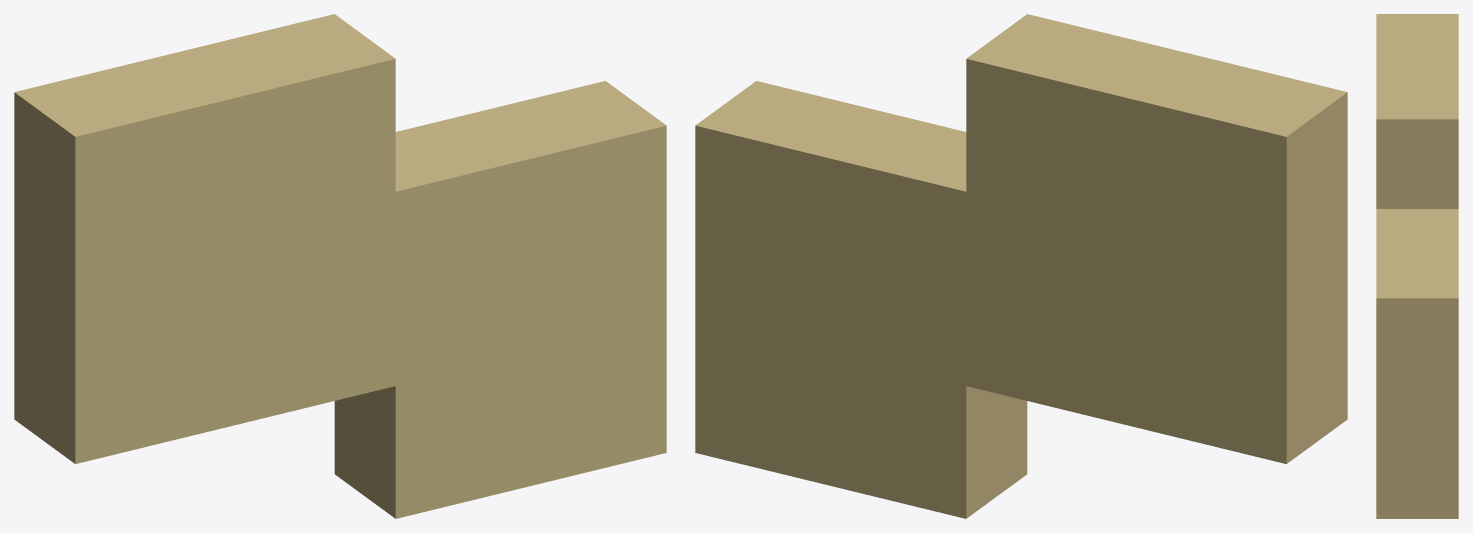
File: drowdown1.fbx
The picture shows the model from 3 angles, left to right: view 1: azimuth 30°, elevation 25°; view 2: azimuth 150°, elevation 25°; view 3: azimuth 270°, elevation 25°; orthographic projection. The views are drawn at different scales.
Parts seen in each view (by area): view 1: Cube.010; view 2: Cube.010; view 3: Cube.010.
Part boxes in pixels (bbox=[...]): Cube.010: bbox=[14, 14, 666, 518]; Cube.010: bbox=[695, 14, 1347, 518]; Cube.010: bbox=[1376, 14, 1458, 518].
Size of the model in its own units: 15535 by 11554 by 2783.
